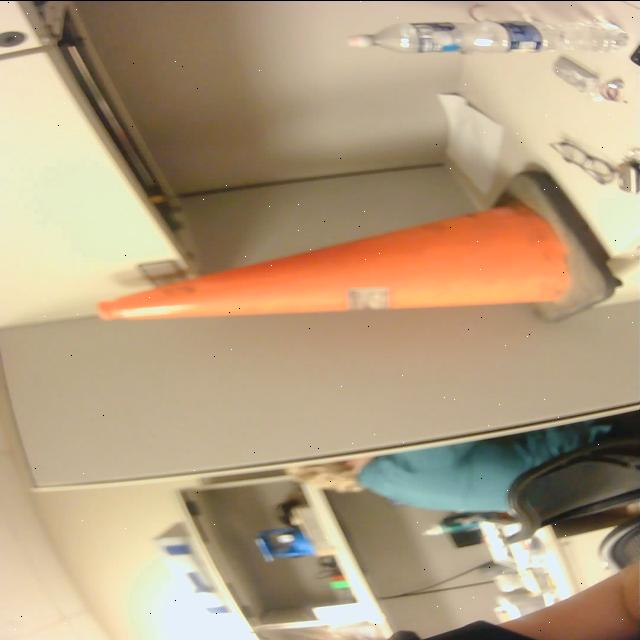traffic cone: (89, 163, 629, 330)
